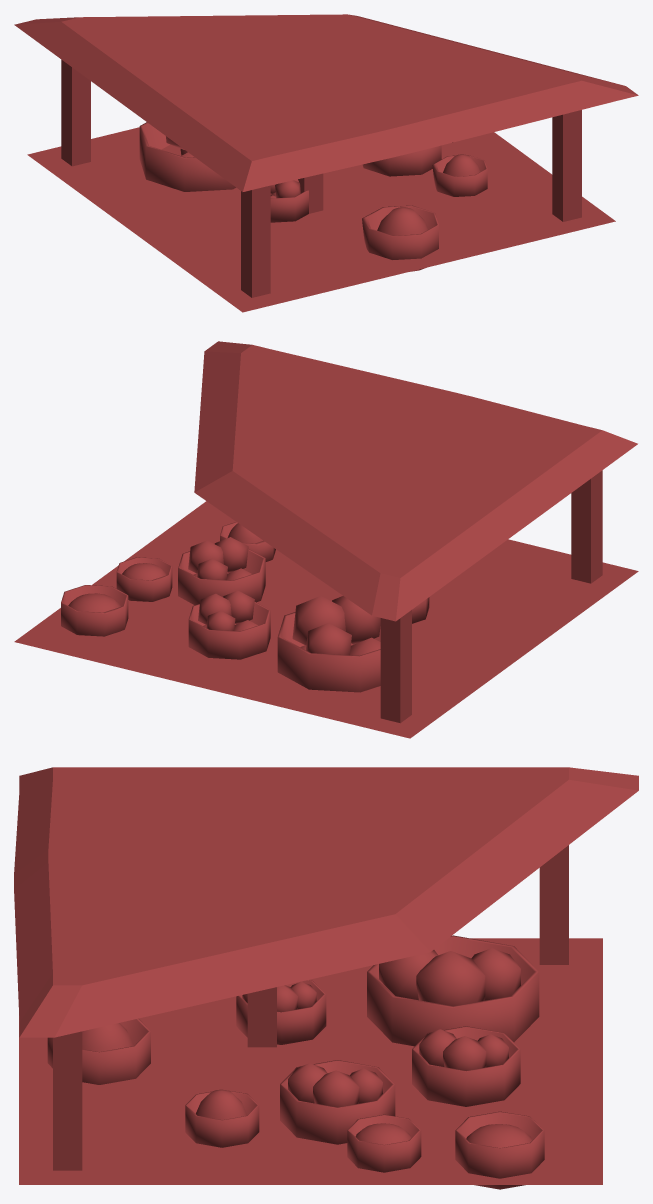
The model's file is BigMarket.fbx.
The picture shows the model from 3 angles, top to bottom: view 1: azimuth 30°, elevation 25°; view 2: azimuth 150°, elevation 25°; view 3: azimuth 270°, elevation 25°; orthographic projection. The views are drawn at different scales.
Parts seen in each view (by area): view 1: BigMArket.001; view 2: BigMArket.001; view 3: BigMArket.001.
Part boxes in pixels (left/top/right/bottom): BigMArket.001: left=14, top=14, right=638, bottom=312; BigMArket.001: left=14, top=341, right=638, bottom=738; BigMArket.001: left=14, top=767, right=638, bottom=1189.
Bounding box in the file's own units: 2123 × 2140 × 903.
